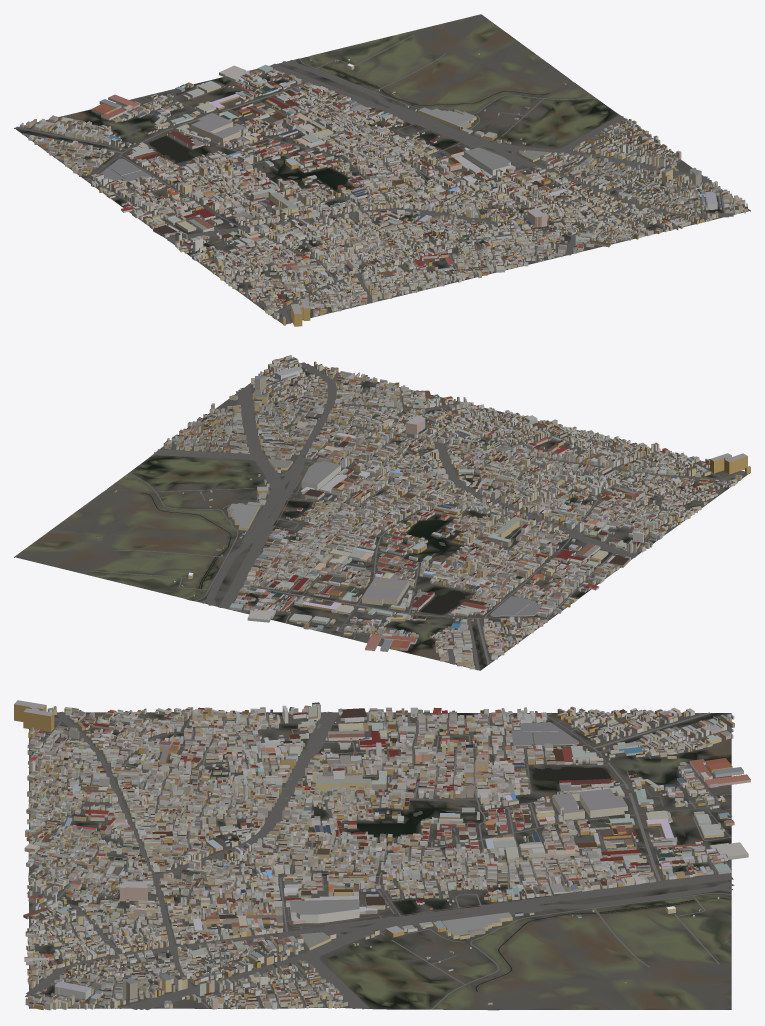
3 renders of one model, top to bottom at view 1: azimuth 30°, elevation 25°; view 2: azimuth 150°, elevation 25°; view 3: azimuth 270°, elevation 25°, orthographic. The views are drawn at different scales.
Parts seen in each view (by area): view 1: buildings, ground, roads, water; view 2: buildings, ground, roads, water; view 3: buildings, ground, roads, water.
Part boxes in pixels (left/top/right/bottom): buildings: left=20, top=53, right=747, bottom=326; ground: left=14, top=14, right=750, bottom=324; roads: left=15, top=35, right=734, bottom=323; water: left=150, top=57, right=571, bottom=178; buildings: left=96, top=355, right=750, bottom=669; ground: left=14, top=359, right=749, bottom=670; roads: left=91, top=362, right=744, bottom=670; water: left=105, top=490, right=469, bottom=613; buildings: left=14, top=700, right=750, bottom=1010; ground: left=29, top=712, right=731, bottom=1010; roads: left=25, top=711, right=734, bottom=1010; water: left=413, top=767, right=731, bottom=1009.
Bounding box in the file's own units: 1422 × 46.16 × 1469.
